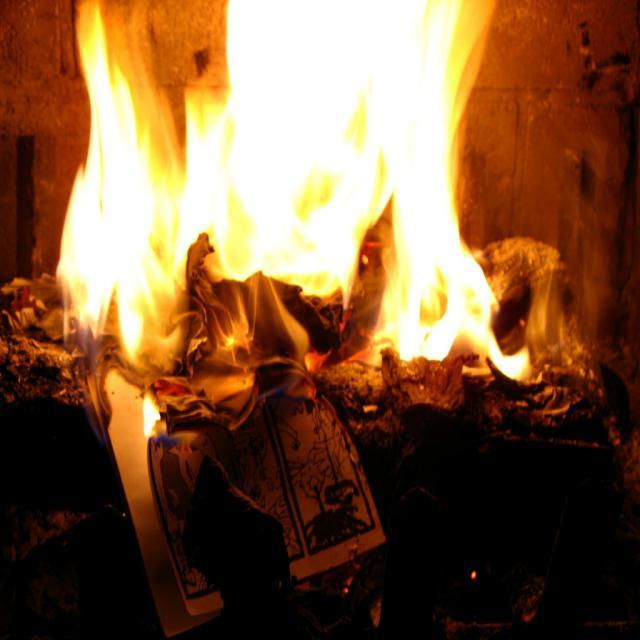Fire: (235, 5, 456, 298), (81, 138, 204, 344)
